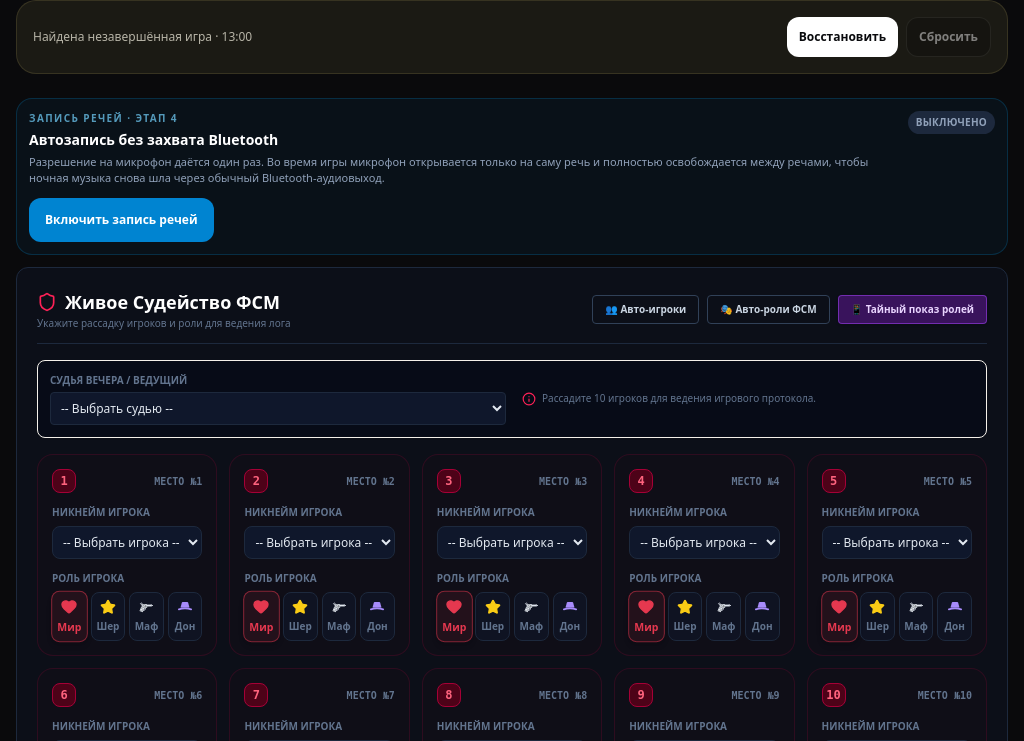
it: Live Game voting: player actions and zero-round split › offers «Попил» in the zero round at a full table
Click the button "Восстановить". click: (842,37)
box: [787,17,898,57]
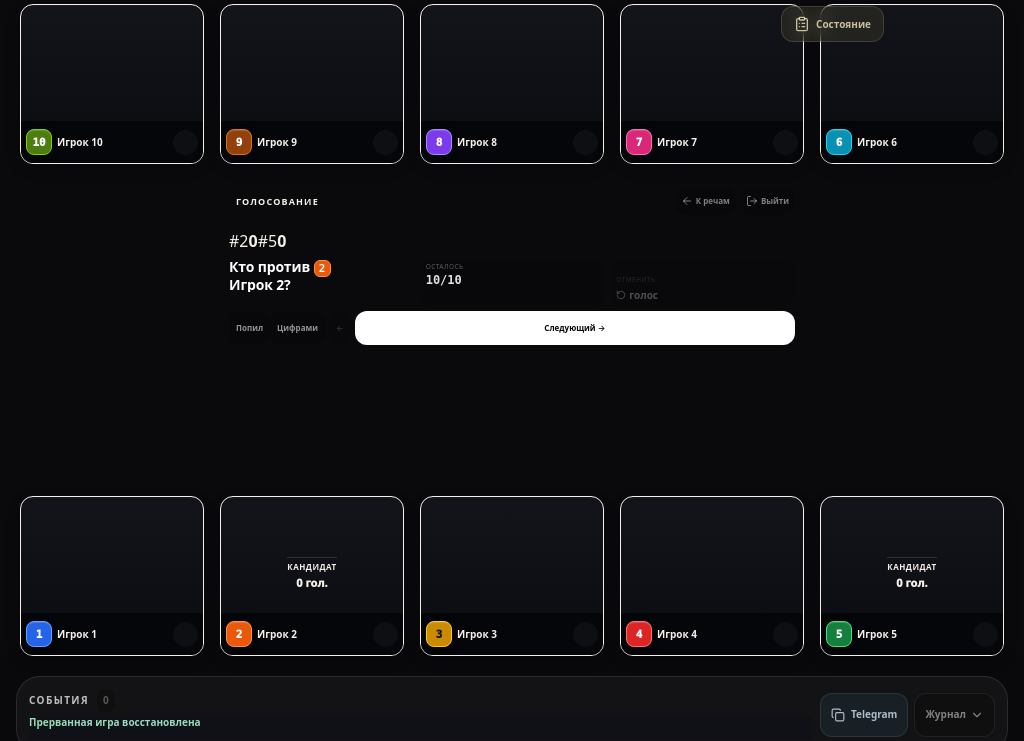
expect the text "Кто против 2" is shown: met, box [229,257,331,276]
expect the button with test id "live-quick-split" is shown: met, box [229,311,270,345]
